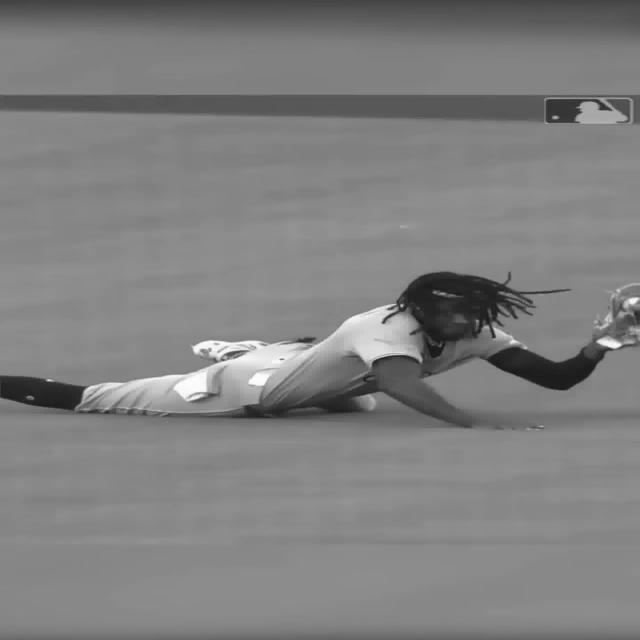baseball: (626, 295, 638, 310)
baseball_glove: (597, 276, 640, 346)
shoe: (188, 336, 268, 362)
